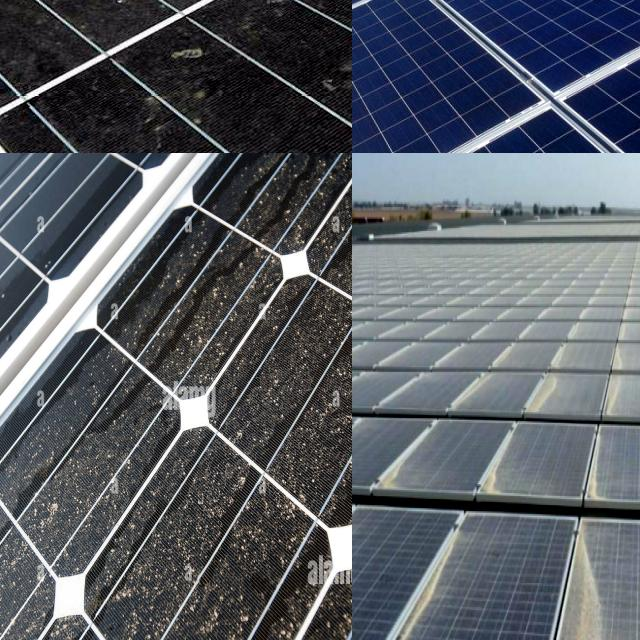bird: (182, 0, 351, 41)
crack: (407, 0, 640, 139), (352, 0, 549, 153), (503, 0, 640, 153), (352, 0, 535, 71), (449, 0, 620, 55), (352, 0, 423, 54), (352, 0, 411, 38)
dust: (113, 485, 259, 640), (371, 515, 524, 640), (35, 368, 123, 558), (253, 307, 352, 472), (360, 358, 454, 498), (146, 259, 250, 383), (479, 370, 568, 510), (538, 525, 640, 640), (579, 357, 640, 510), (530, 265, 635, 344), (412, 265, 508, 344), (0, 531, 60, 640), (352, 512, 396, 640), (352, 374, 392, 475), (352, 258, 402, 338)
